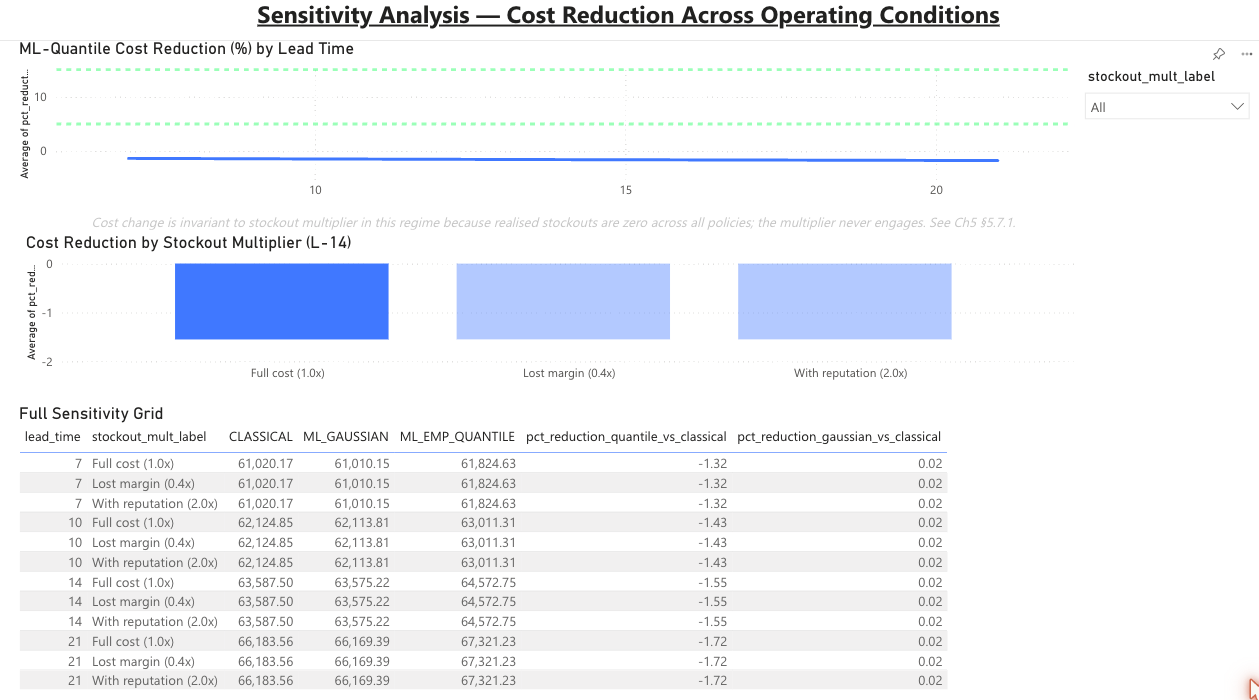

The dashboard page shown, as its layout file describes it:
{"tool":"powerbi","page":{"name":"Sensitivity Analysis","canvas":[1280,720],"ordinal":3},"visuals":[{"type":"textbox","box":[0,0,1280,49.7],"z":0},{"type":"slicer","fields":{"Values":["sensitivity.stockout_mult_label"]},"box":[1092.5,74,187.5,63.8],"z":1},{"type":"lineChart","title":"ML-Quantile Cost Reduction (%) by Lead Time","fields":{"Category":["sensitivity.lead_time"],"Y":["Avg(sensitivity.pct_reduction_quantile_vs_classical)"]},"box":[17.2,49.7,1075.3,169.2],"z":2},{"type":"clusteredColumnChart","title":"Cost Reduction by Stockout Multiplier (L-14)","fields":{"Category":["sensitivity.stockout_mult_label"],"Y":["Avg(sensitivity.pct_reduction_quantile_vs_classical)"]},"box":[24.3,246.3,1074.3,158.1],"z":3},{"type":"tableEx","title":"Full Sensitivity Grid","fields":{"Values":["sensitivity.lead_time","sensitivity.stockout_mult_label","sensitivity.CLASSICAL","sensitivity.ML_GAUSSIAN","sensitivity.ML_EMP_QUANTILE","sensitivity.pct_reduction_quantile_vs_classical","sensitivity.pct_reduction_gaussian_vs_classical"]},"box":[17.2,419.6,1261.8,300],"z":4},{"type":"textbox","box":[24.3,218.9,1079.3,27.4],"z":5}]}

Visuals, with their boxes in screenshot pixels (x1, y1, x2, y2), scaled from the page's 1280x720 canvas onto the 1259x700 screenshot:
textbox: bbox(0, 0, 1258, 48)
slicer - sensitivity.stockout_mult_label: bbox(1075, 72, 1258, 134)
"ML-Quantile Cost Reduction (%) by Lead Time" lineChart: bbox(17, 48, 1075, 213)
"Cost Reduction by Stockout Multiplier (L-14)" clusteredColumnChart: bbox(24, 239, 1081, 393)
"Full Sensitivity Grid" tableEx: bbox(17, 408, 1258, 699)
textbox: bbox(24, 213, 1085, 239)
